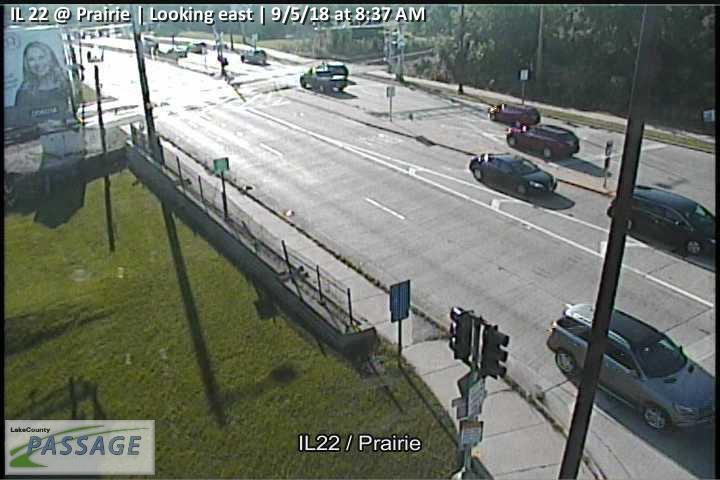SUV: (545, 303, 717, 432), (606, 185, 718, 255), (504, 123, 581, 158), (488, 101, 540, 125)
Sedan: (468, 152, 558, 195)
Truck: (300, 66, 348, 92)
